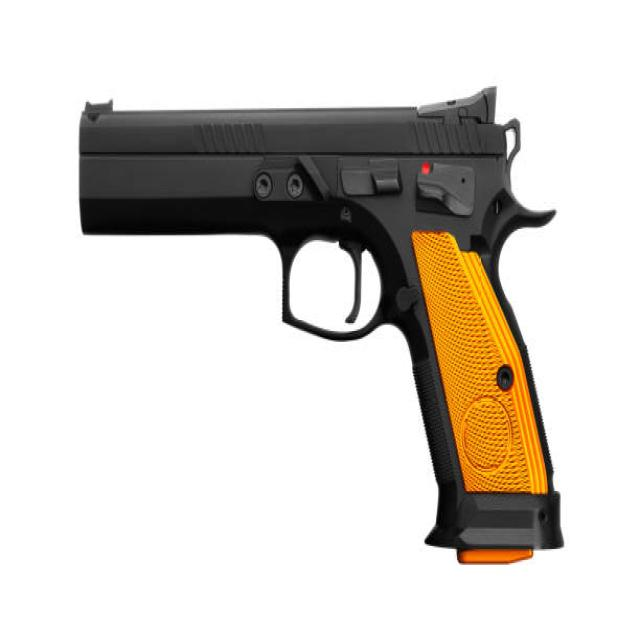pistol: (76, 77, 573, 572)
